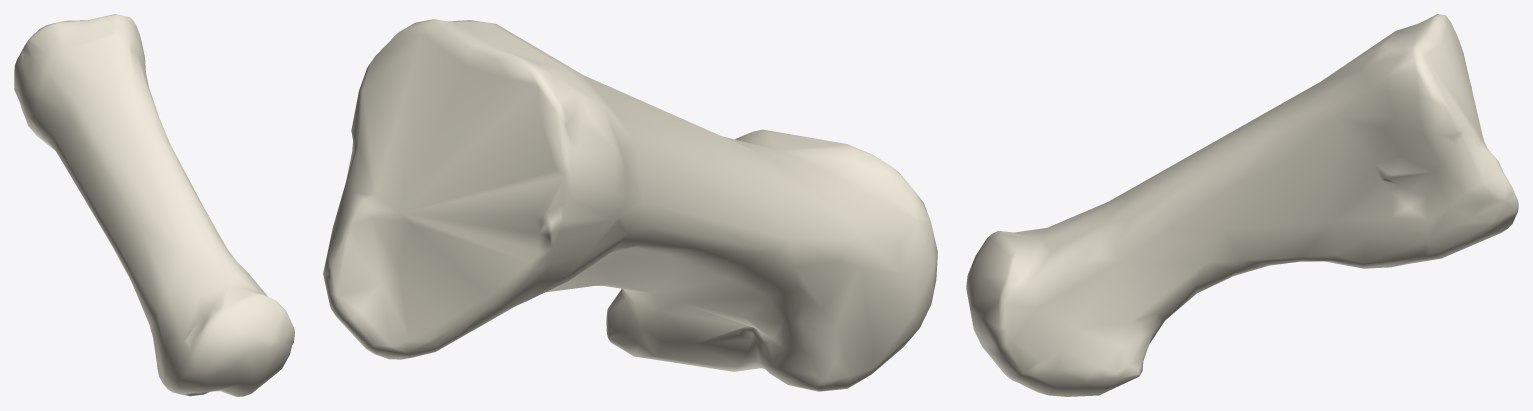
3 renders of one model, left to right at view 1: azimuth 30°, elevation 25°; view 2: azimuth 150°, elevation 25°; view 3: azimuth 270°, elevation 25°, orthographic. The views are drawn at different scales.
Parts seen in each view (by area): view 1: ZA_5c4831118859bce0; view 2: ZA_5c4831118859bce0; view 3: ZA_5c4831118859bce0.
Boxes of the visible parts, left/top/right/bottom form: ZA_5c4831118859bce0: left=14, top=14, right=294, bottom=396; ZA_5c4831118859bce0: left=323, top=19, right=937, bottom=391; ZA_5c4831118859bce0: left=966, top=14, right=1518, bottom=396.
Bounding box in the file's own units: 0.0218 × 0.0449 × 0.0636.
